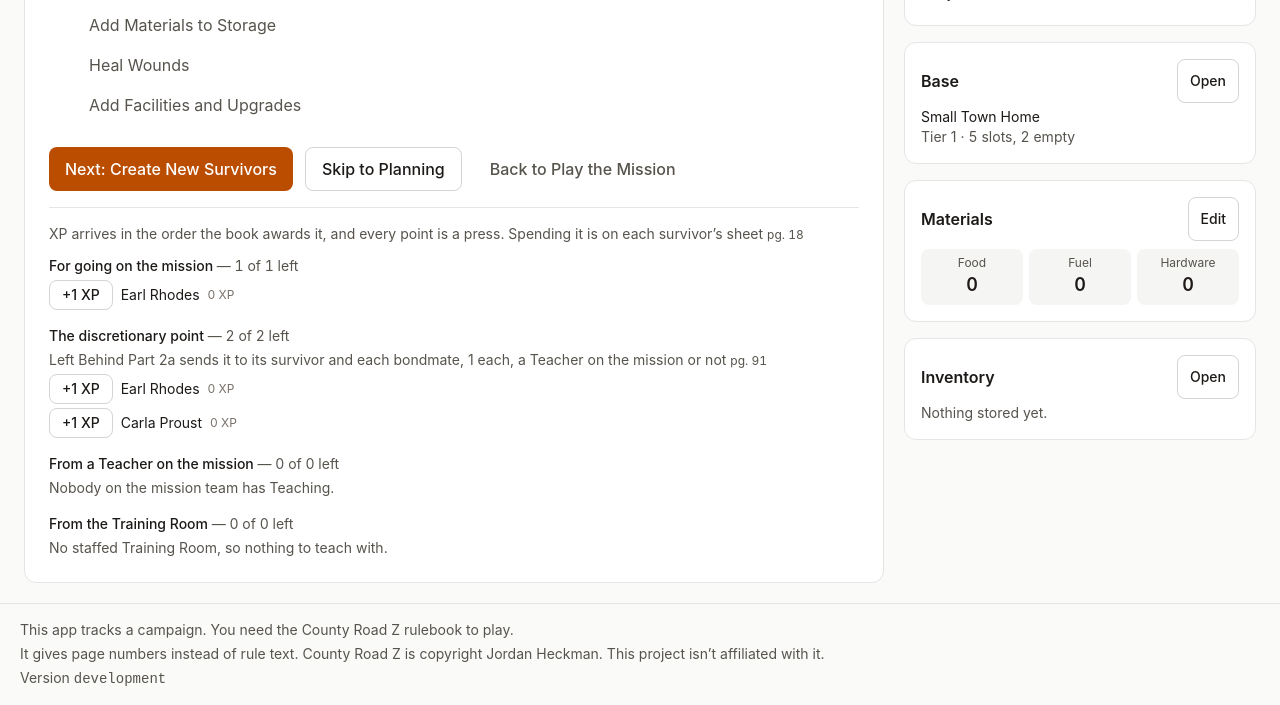
it: Part 2a’s extra XP › goes to the survivor and each bondmate, 1 each, and says why
(page scrolled)
Expected: the text "Left Behind Part 2a sends it to its survivor" is shown, [49,350,730,368]
Expected: the text "The discretionary point — 2 of 2 left" is shown, [49,326,289,344]
Click the 3rd button "+1 XP" at (81, 422), box [49,408,113,438]
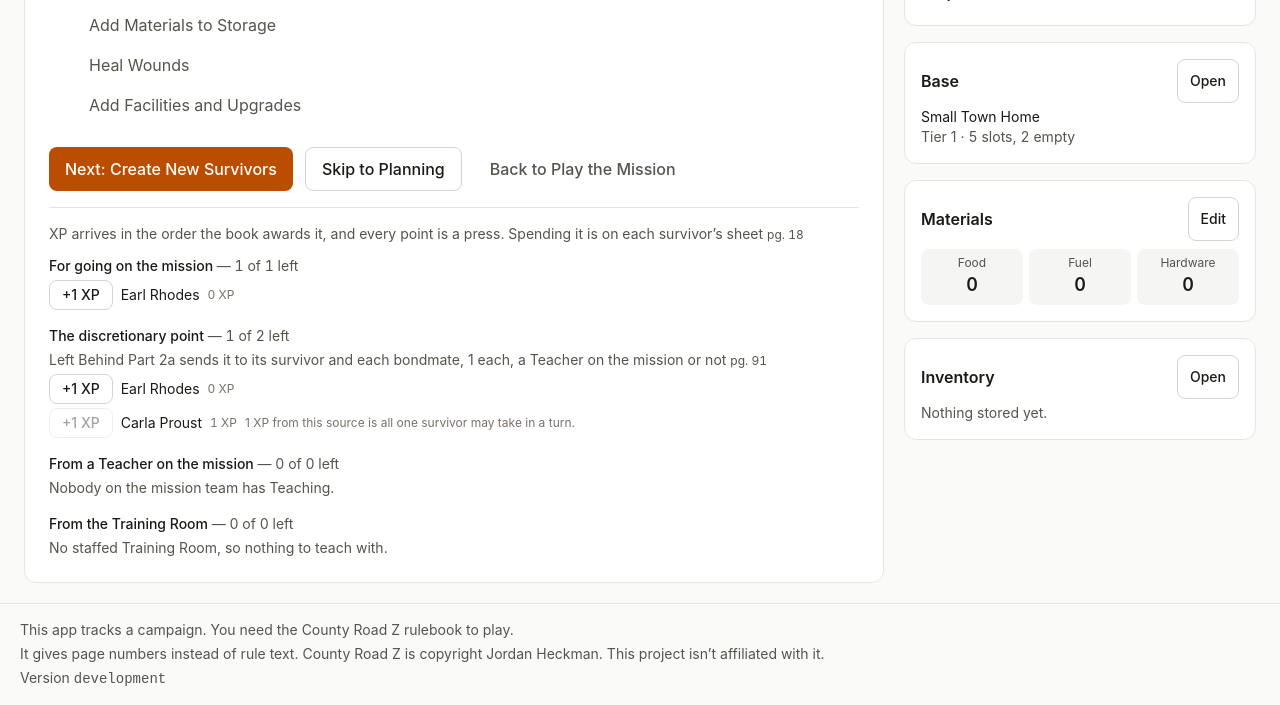
Expected: the 2nd button "+1 XP" is enabled, [49,374,113,404]
Expected: the 3rd button "+1 XP" is disabled, [49,408,113,438]
